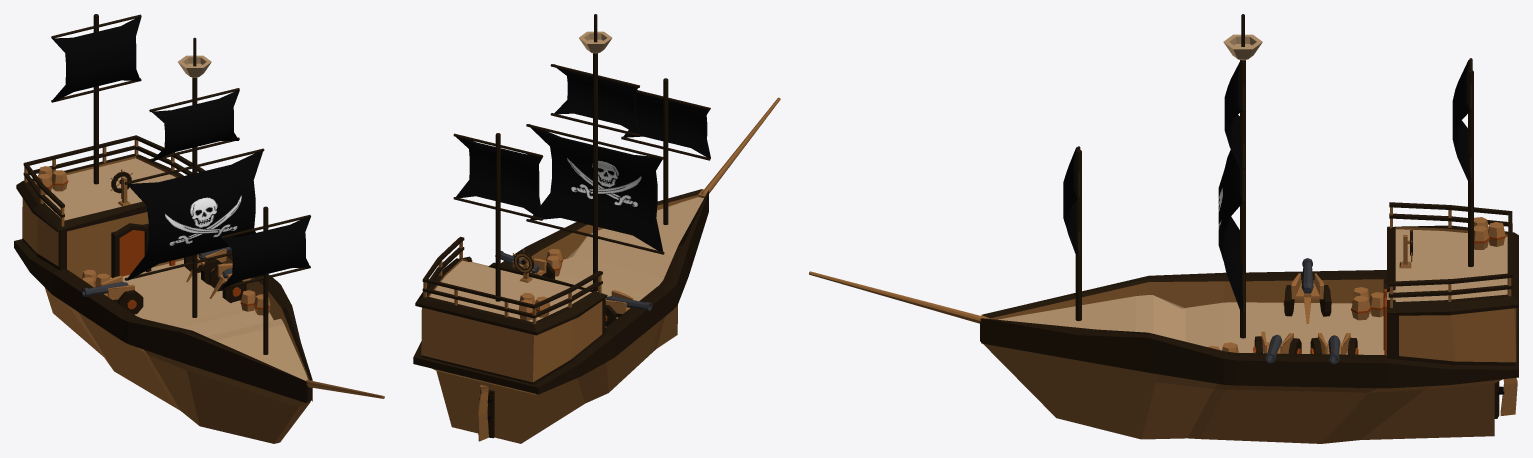
The model's file is pirate_ship_low_poly.glb.
3 views of the same model, side by side, from view 1: azimuth 30°, elevation 25°; view 2: azimuth 150°, elevation 25°; view 3: azimuth 270°, elevation 25° (orthographic). The views are drawn at different scales.
Visible parts, largest first — view 1: Cube, Plane.004, Plane.003, Plane.001, Plane.002, Cube.015, Cylinder.024, Cube.008, Cube.011, Cylinder.025, Cylinder.002, Cylinder.023 (+5 smaller); view 2: Cube, Plane.004, Plane.003, Plane.001, Plane.002, Cylinder.002, Cube.008, Cube.011, Cylinder.001, Cylinder.003, Cylinder.024, Cylinder.012 (+5 smaller); view 3: Cube, Plane.004, Cube.008, Cylinder.024, Plane.003, Plane.002, Cube.011, Cylinder.002, Cylinder.012, Plane.001, Cylinder.001, Cylinder.003 (+3 smaller).
Boxes of the visible parts, x1,y1,x2,y2 form: Cube: (14, 153, 312, 443); Plane.004: (127, 150, 263, 280); Plane.003: (51, 16, 141, 102); Plane.001: (221, 215, 310, 288); Plane.002: (151, 90, 239, 161); Cube.015: (111, 223, 151, 277); Cylinder.024: (81, 275, 143, 314); Cube.008: (23, 135, 205, 208); Cube.011: (23, 145, 192, 217); Cylinder.025: (209, 263, 250, 302); Cylinder.002: (192, 37, 197, 317); Cylinder.023: (184, 246, 231, 285); Cube: (413, 189, 708, 443); Plane.004: (529, 124, 663, 251); Plane.003: (456, 137, 543, 220); Plane.001: (623, 92, 710, 158); Plane.002: (554, 64, 640, 134); Cylinder.002: (593, 14, 597, 291); Cube.008: (422, 236, 602, 308); Cube.011: (422, 247, 602, 318); Cylinder.001: (495, 133, 500, 301); Cylinder.003: (663, 78, 668, 224); Cylinder.024: (605, 290, 652, 326); Cylinder.012: (701, 97, 780, 195); Cube: (980, 225, 1518, 443); Plane.004: (1218, 149, 1243, 313); Cube.008: (1388, 202, 1512, 286); Cylinder.024: (1283, 258, 1331, 323); Plane.003: (1452, 60, 1471, 183); Plane.002: (1224, 62, 1241, 168); Cube.011: (1388, 213, 1512, 297); Cylinder.002: (1240, 14, 1245, 338); Cylinder.012: (809, 271, 987, 323); Plane.001: (1063, 147, 1078, 256); Cylinder.001: (1468, 70, 1473, 266); Cylinder.003: (1075, 149, 1081, 321).
Bounding box in the file's own units: 3065 × 5910 × 9484.
10 materials, 1 textured.
